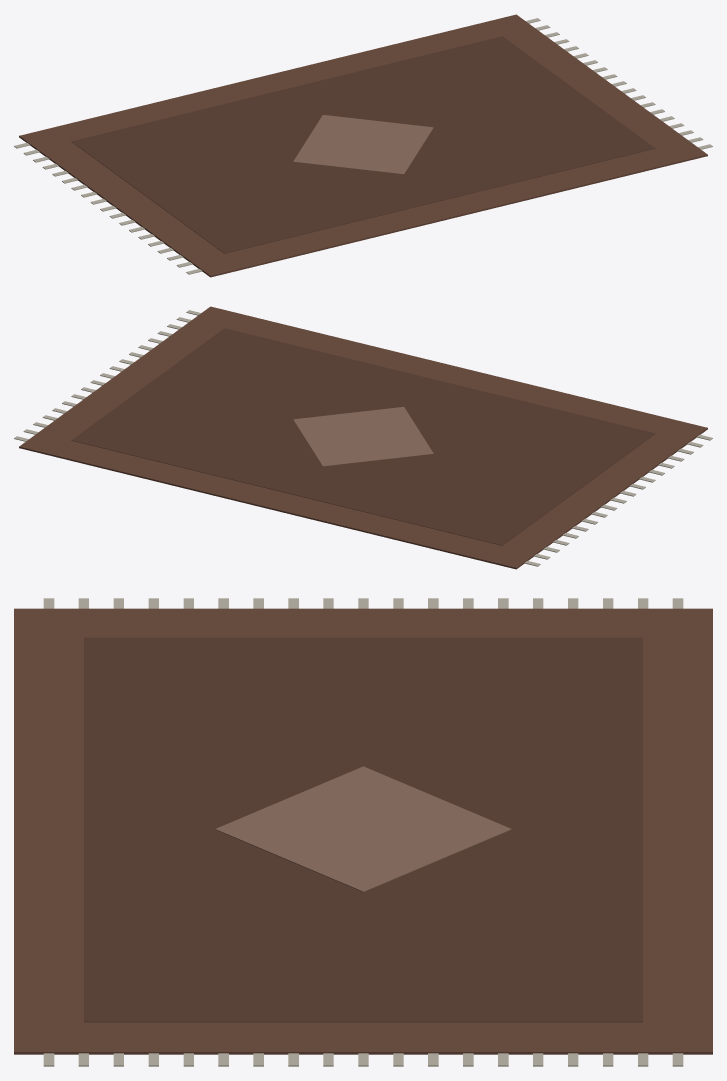
The model's file is tapis.glb.
3 renders of one model, top to bottom at view 1: azimuth 30°, elevation 25°; view 2: azimuth 150°, elevation 25°; view 3: azimuth 270°, elevation 25°, orthographic. The views are drawn at different scales.
Visible parts, largest first — view 1: field, rug, medallion, fringe, fringe_r; view 2: field, rug, medallion, fringe, fringe_r; view 3: field, rug, medallion, fringe_r, fringe.
Part boxes in pixels (x1,y1,x2,y2): field: (71, 36, 655, 253); rug: (19, 14, 707, 277); medallion: (293, 115, 433, 174); fringe: (14, 142, 202, 274); fringe_r: (526, 18, 712, 149); field: (71, 328, 655, 545); rug: (19, 306, 707, 569); medallion: (293, 407, 433, 466); fringe: (524, 434, 712, 566); fringe_r: (14, 310, 200, 441); field: (84, 637, 642, 1022); rug: (14, 608, 712, 1054); medallion: (215, 766, 511, 892); fringe_r: (43, 1053, 683, 1066); fringe: (43, 598, 683, 608).
Bounding box in the file's own units: 3.16 × 0.013 × 2.
4 materials, 4 textured.
